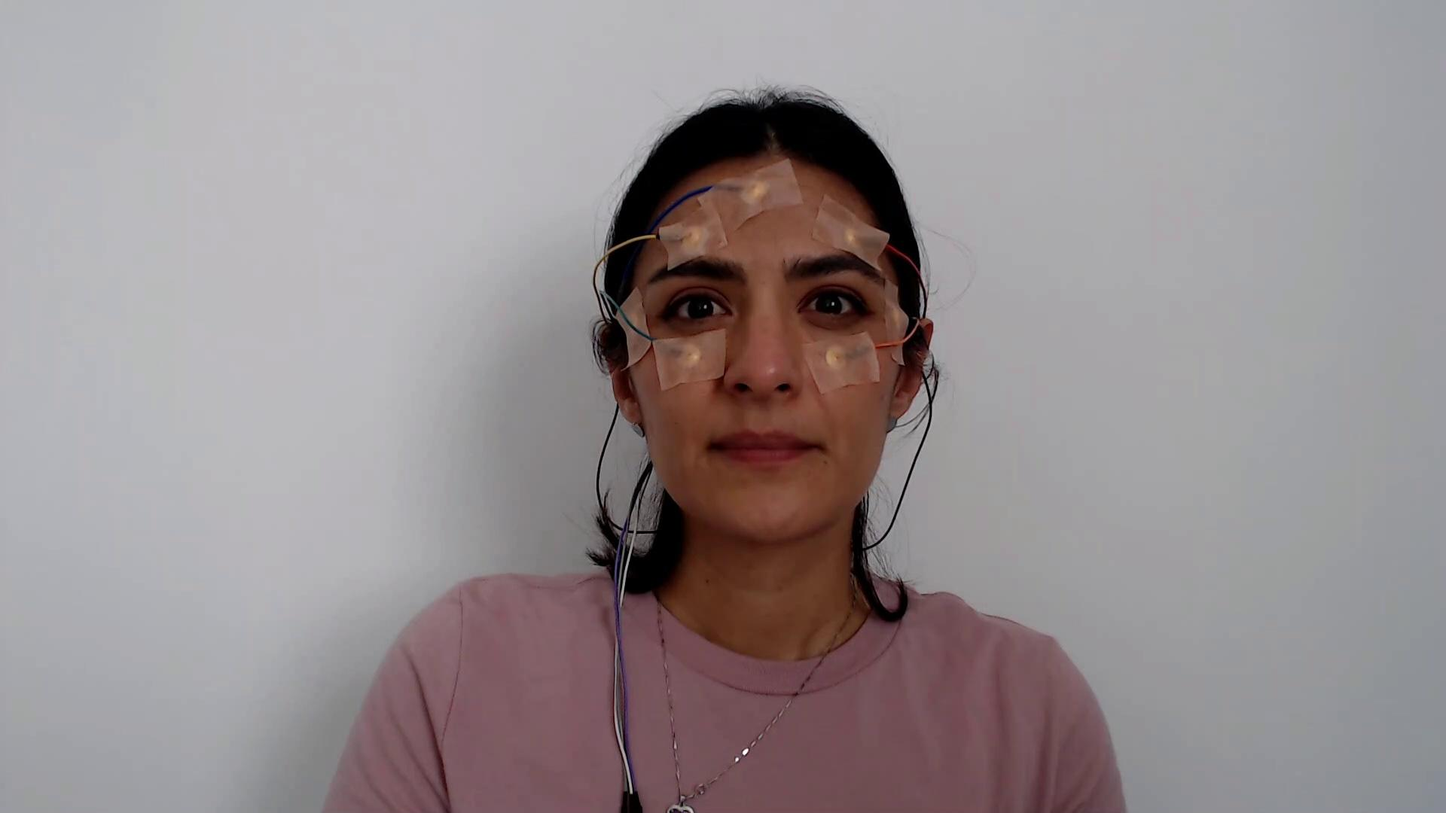Iris: (687, 299, 713, 318), (815, 295, 842, 313)
Ojos: (662, 285, 736, 324), (794, 284, 868, 320)
